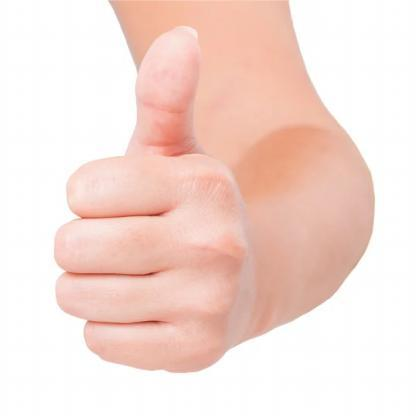thumb_up: (47, 23, 289, 378)
